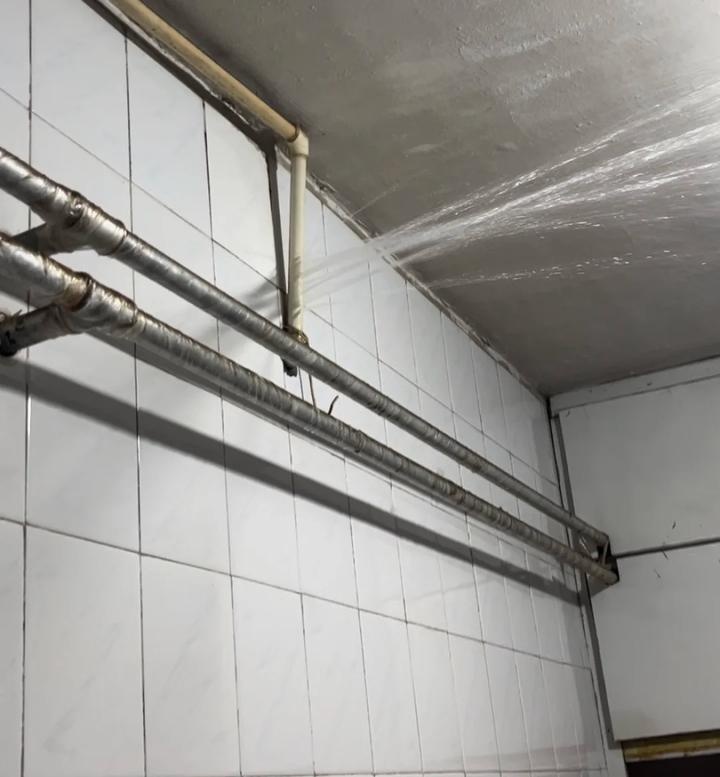pipe burst: (290, 87, 720, 318)
